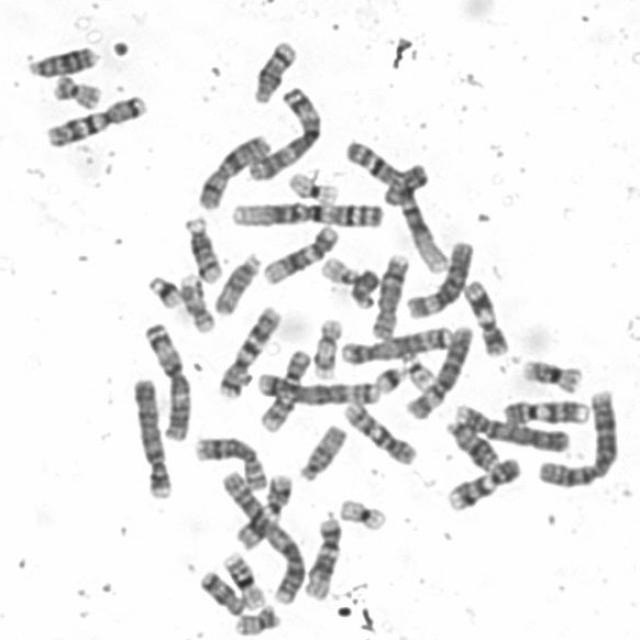A1: (341, 135, 450, 275), (225, 196, 386, 231)
A2: (219, 467, 307, 606), (534, 386, 620, 489)
A3: (243, 81, 324, 182), (138, 319, 192, 442)
B4: (451, 399, 572, 453), (128, 375, 174, 500)
B5: (338, 322, 455, 367), (253, 369, 382, 407)
C10: (340, 398, 418, 467), (255, 348, 315, 436)
C11: (234, 473, 293, 546), (461, 276, 509, 359)
C12: (258, 221, 341, 286), (299, 514, 343, 602)
C6: (403, 322, 475, 421), (403, 236, 476, 320)
C7: (215, 302, 282, 400), (42, 90, 150, 150)
C8: (192, 431, 270, 493), (368, 250, 412, 341)
C9: (443, 453, 522, 512), (499, 393, 592, 428)
D13: (441, 417, 499, 473), (24, 42, 100, 79)
D14: (249, 36, 298, 104), (183, 212, 223, 285)
D15: (209, 250, 263, 316), (296, 421, 347, 483)
E16: (219, 549, 267, 610), (519, 355, 583, 395)
E17: (176, 268, 215, 336), (309, 314, 343, 380)
E18: (197, 566, 246, 617), (378, 160, 430, 208)
F19: (285, 168, 341, 205), (336, 495, 390, 532)
F20: (51, 70, 104, 110), (232, 602, 280, 636)
G21: (143, 273, 184, 310), (371, 362, 409, 394)
G22: (318, 253, 360, 286), (404, 353, 436, 390)
X: (194, 131, 272, 211)
Y: (346, 265, 381, 309)
